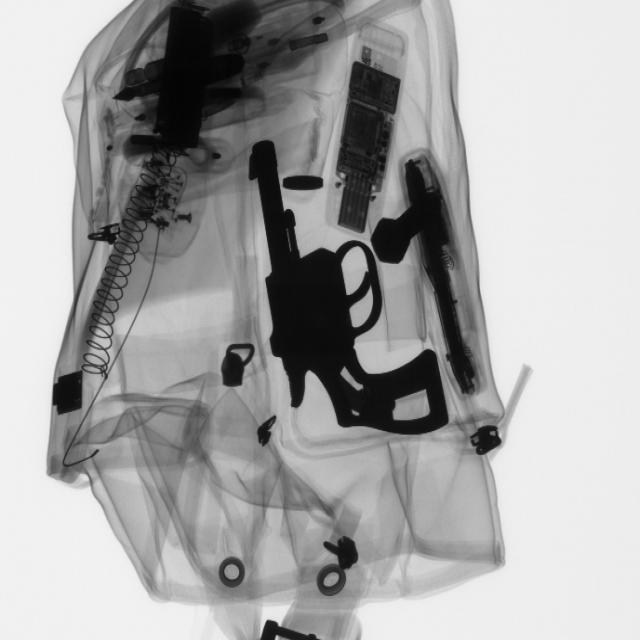GUN: (238, 129, 450, 436)
